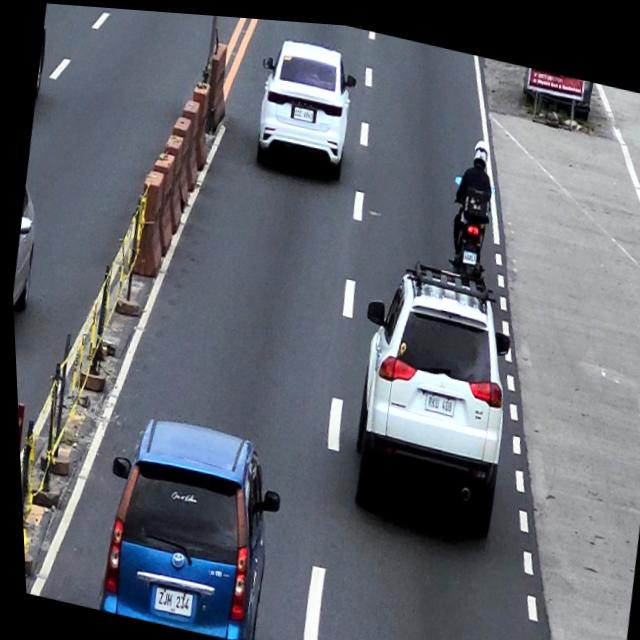Car: (331, 246, 527, 541), (81, 402, 291, 640), (245, 27, 365, 181)
License-Plate: (148, 584, 189, 617), (420, 385, 453, 410), (292, 102, 315, 119)
Motorcycle: (440, 162, 499, 277)
